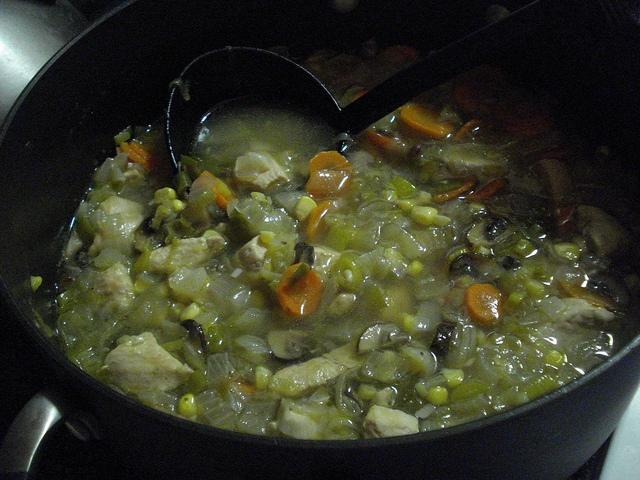carrot: (274, 262, 322, 317), (400, 106, 456, 138), (199, 169, 237, 210), (466, 284, 502, 324), (306, 199, 336, 243), (305, 170, 351, 198), (463, 176, 510, 202), (434, 176, 479, 202), (377, 45, 419, 68), (366, 130, 408, 152), (508, 120, 556, 139), (120, 141, 149, 171), (130, 141, 160, 165), (453, 84, 476, 114), (454, 120, 485, 141), (538, 148, 568, 161)
